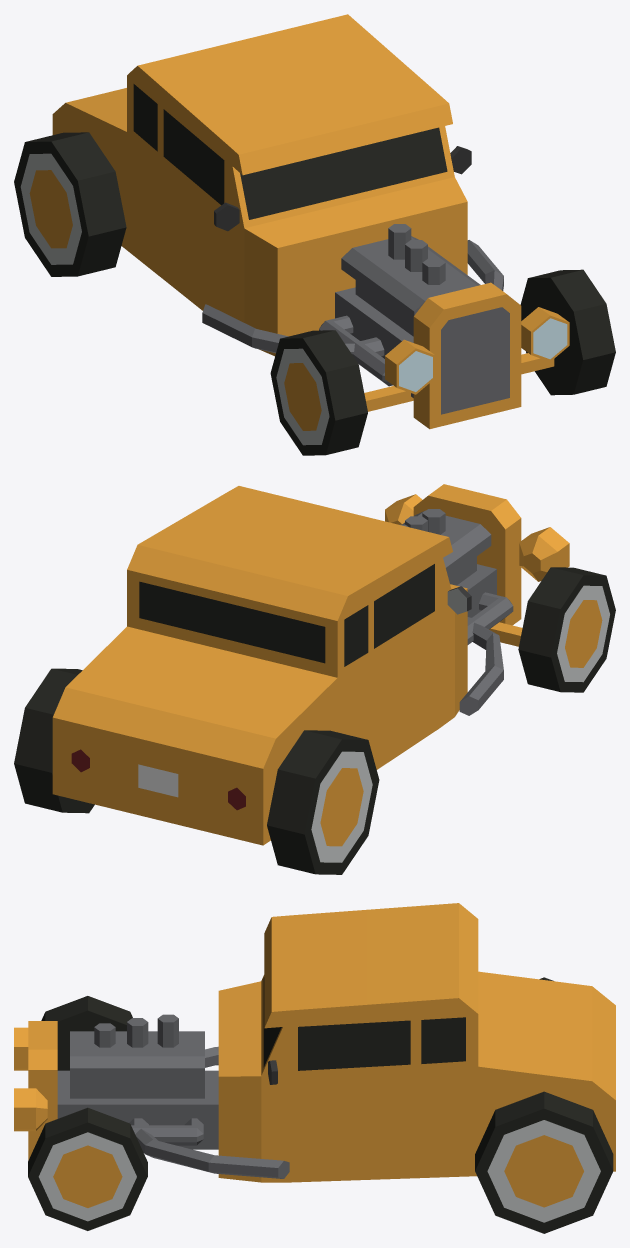
The model's file is Veh_HotRod_Yellow.glb.
3 renders of one model, top to bottom at view 1: azimuth 30°, elevation 25°; view 2: azimuth 150°, elevation 25°; view 3: azimuth 270°, elevation 25°, orthographic. The views are drawn at different scales.
Visible parts, largest first — view 1: HotRod_Yellow, Wheel_RR, Wheel_FR, Wheel_FL; view 2: HotRod_Yellow, Wheel_RR, Wheel_FR, Wheel_RL; view 3: HotRod_Yellow, Wheel_RL, Wheel_FL, Wheel_FR.
Part boxes in pixels (x1,y1,x2,y2): HotRod_Yellow: [52, 14, 569, 429]; Wheel_RR: [14, 132, 126, 276]; Wheel_FR: [270, 330, 367, 455]; Wheel_FL: [520, 269, 615, 395]; HotRod_Yellow: [52, 484, 569, 845]; Wheel_RR: [267, 730, 379, 874]; Wheel_FR: [518, 567, 615, 692]; Wheel_RL: [14, 668, 94, 813]; HotRod_Yellow: [14, 903, 615, 1182]; Wheel_RL: [475, 1091, 613, 1233]; Wheel_FL: [28, 1107, 147, 1230]; Wheel_FR: [41, 996, 132, 1070].
Bounding box in the file's own units: 1.21 × 0.9391 × 2.35.
Materials: 1 (1 with a texture image).
